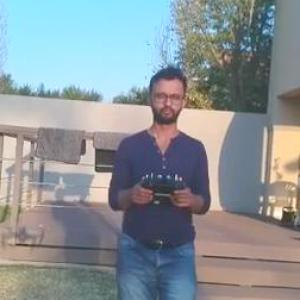follow: (101, 57, 217, 299)
